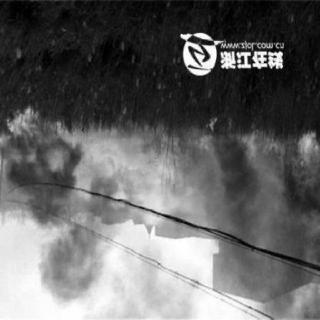Fire: (148, 114, 318, 190), (0, 100, 62, 162)
